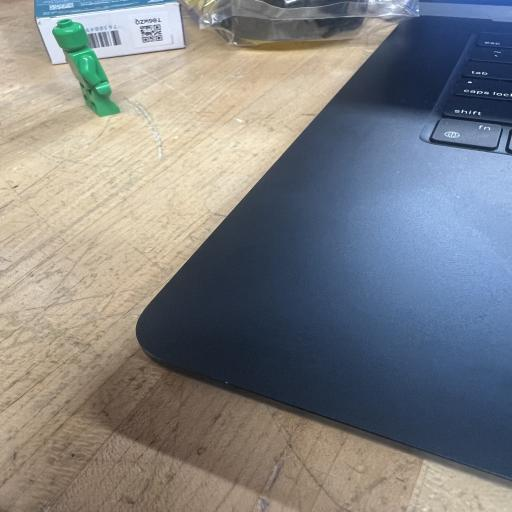green-lego-minifigure-detector: (53, 19, 119, 116)
